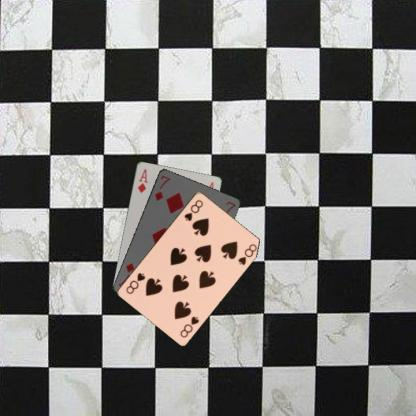7d: (152, 173, 171, 202)
8s: (181, 197, 204, 222), (178, 313, 200, 339)
Ad: (134, 166, 148, 194)
